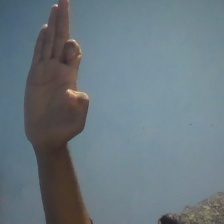F: (21, 1, 92, 147)
